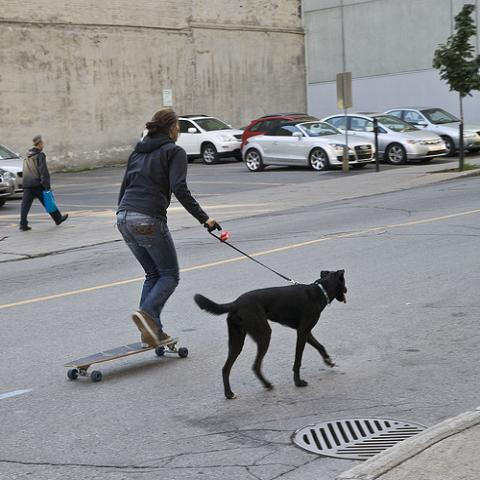car: (241, 119, 376, 171), (325, 112, 448, 164), (139, 114, 243, 165), (383, 106, 479, 156), (240, 113, 318, 152), (0, 145, 24, 194), (0, 175, 14, 207)
